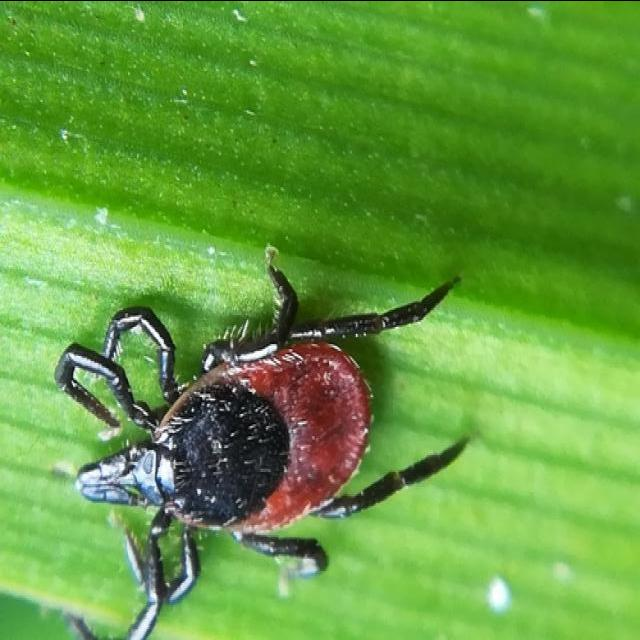Ixodes Ricinus-F: (55, 244, 472, 640)
